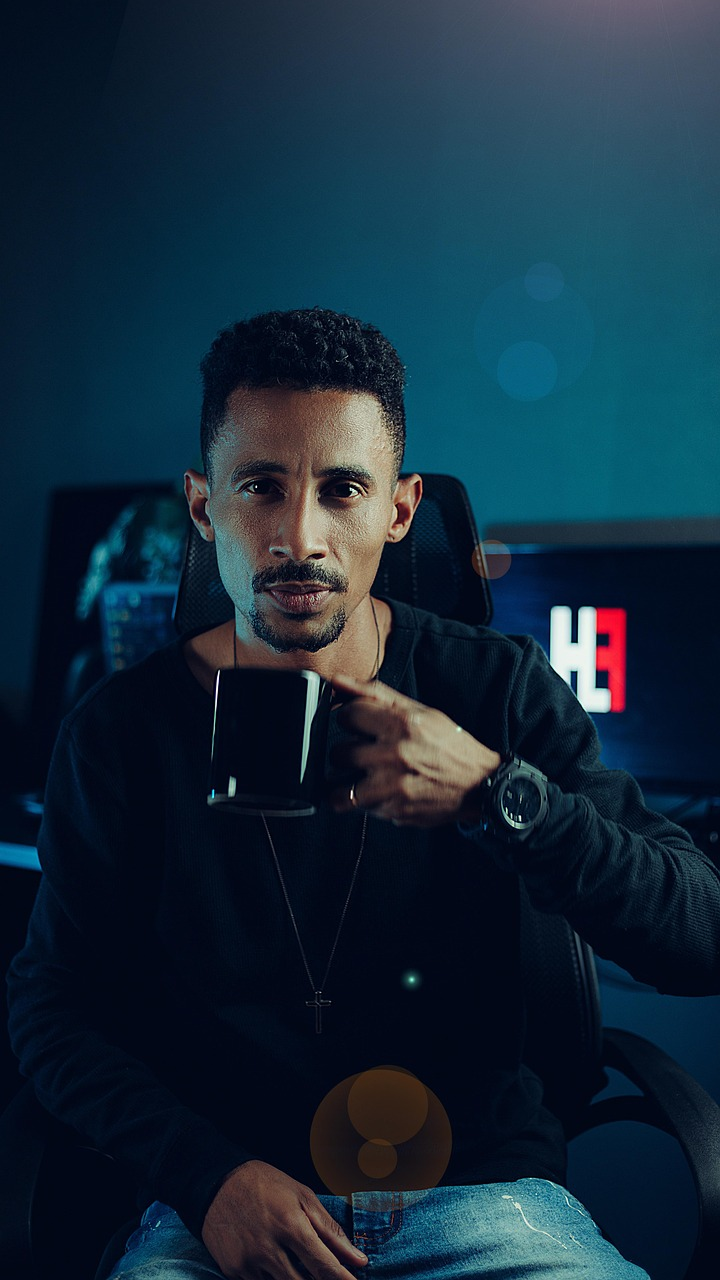mug: (157, 626, 393, 906)
